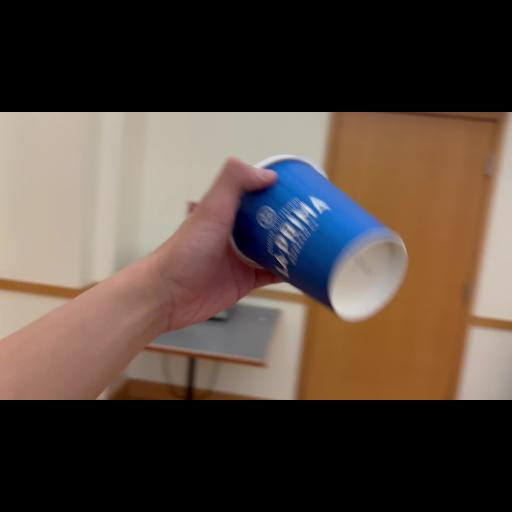lp_paper_cup: (226, 153, 412, 327)
